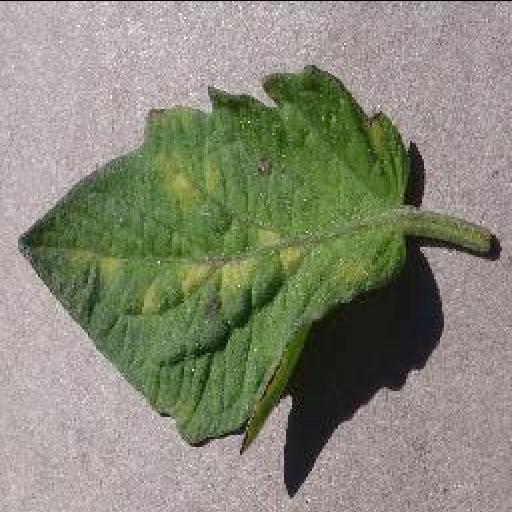disease_tomato: (17, 65, 411, 462)
